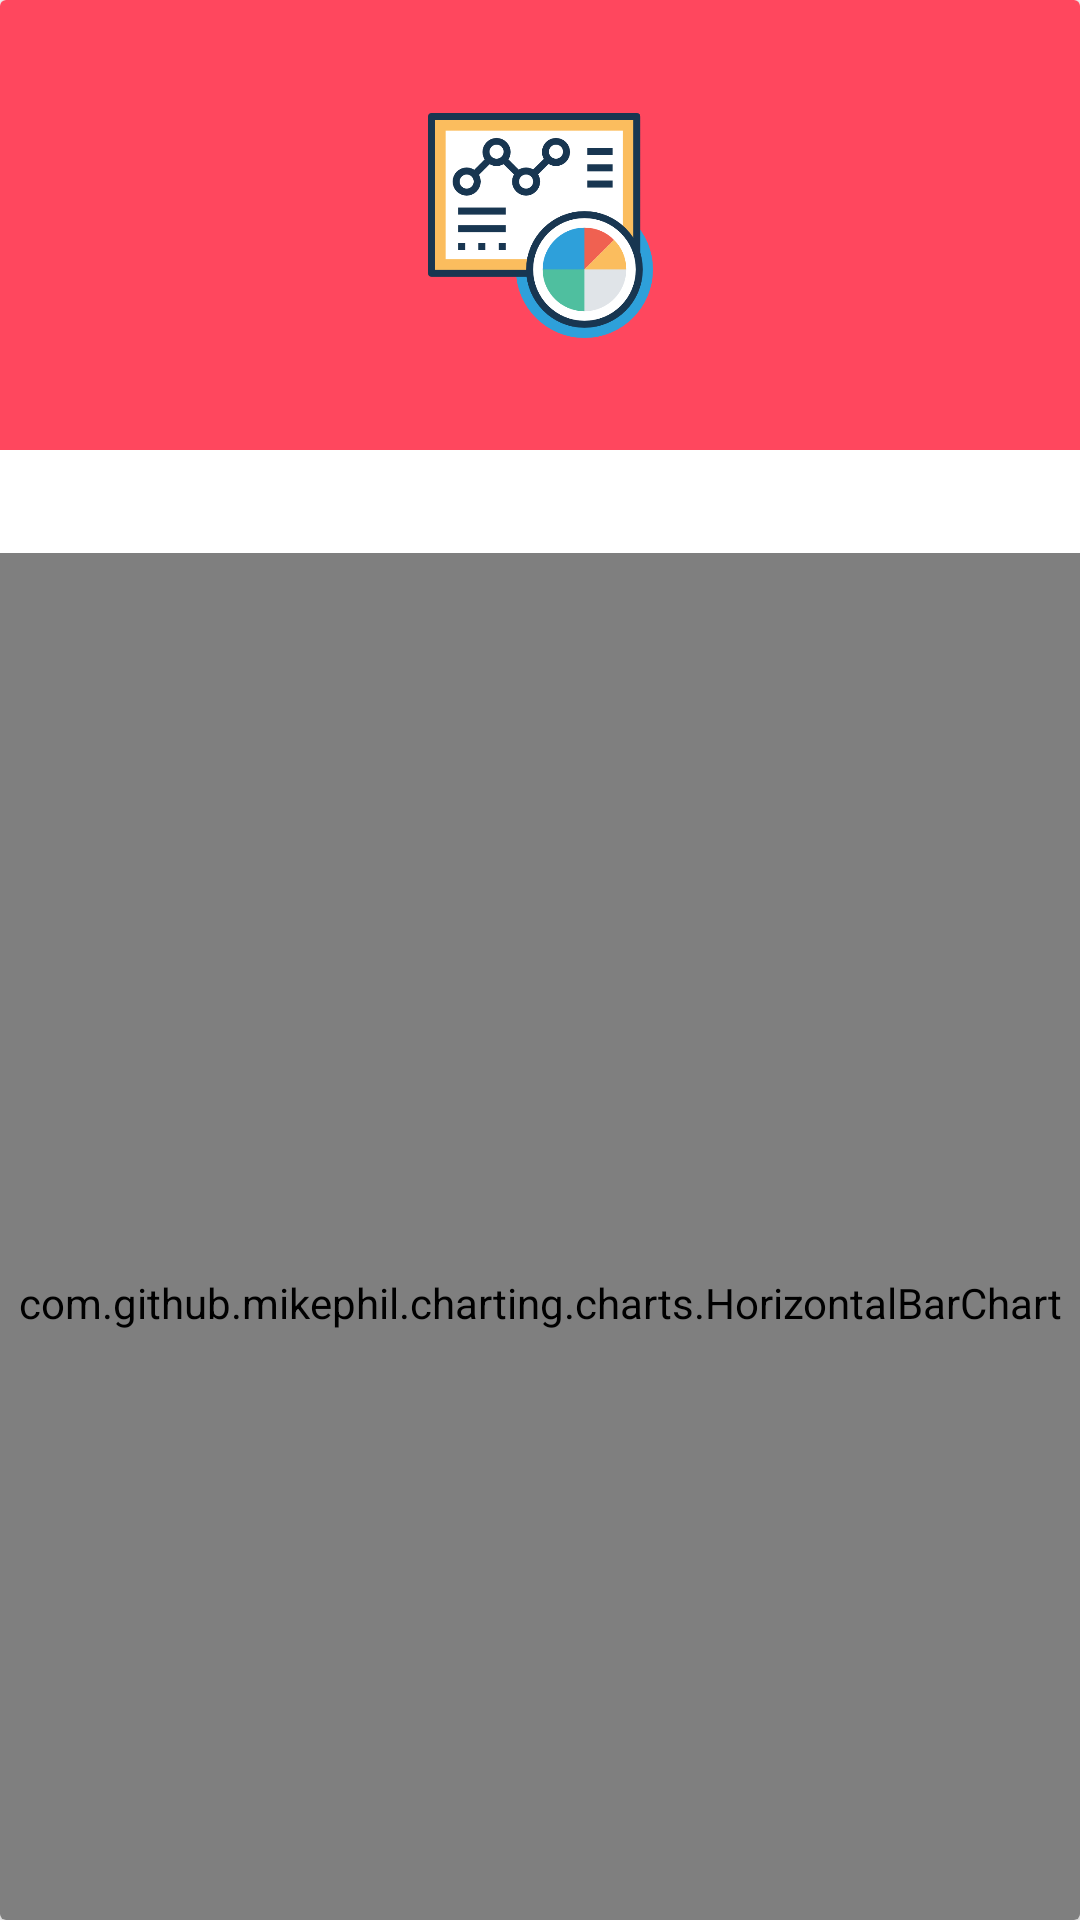

Locate icon controls on the screen. Image size 1080*1920, boxes as [x1, y1, x2, y2].
analytics: [428, 113, 653, 338]
